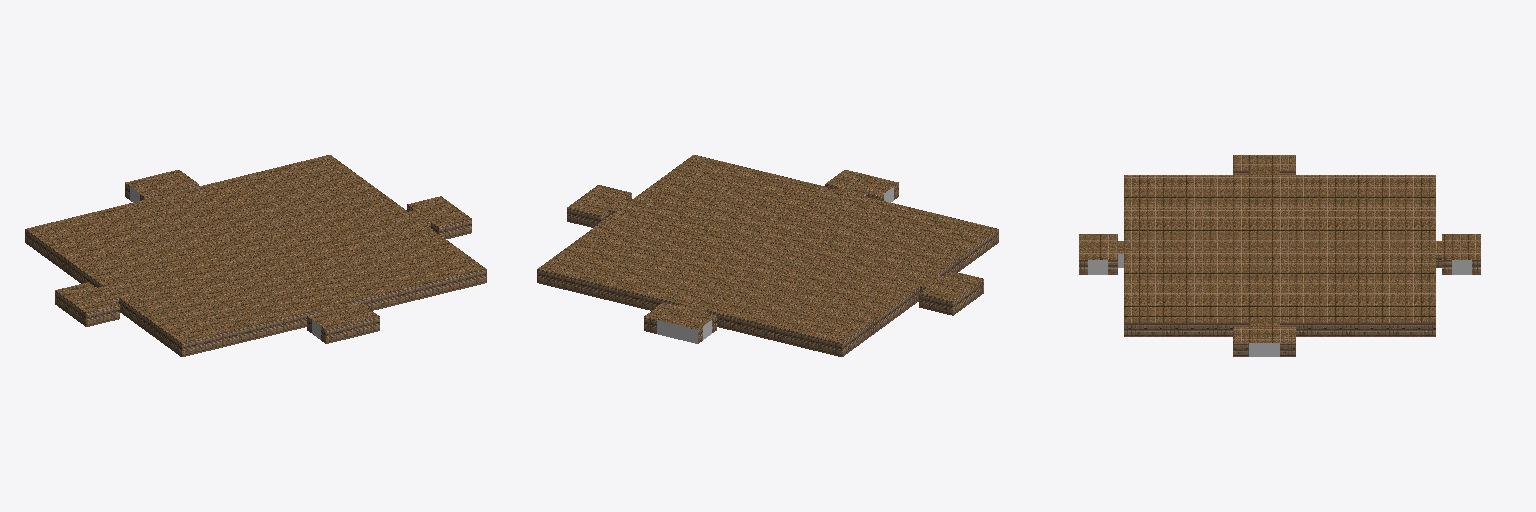
3 renders of one model, left to right at view 1: azimuth 30°, elevation 25°; view 2: azimuth 150°, elevation 25°; view 3: azimuth 270°, elevation 25°, orthographic.
Visible parts, largest first — view 1: ARENA; view 2: ARENA; view 3: ARENA.
Boxes of the visible parts, <box> form: ARENA: <box>25,155,486,356</box>; ARENA: <box>537,155,998,356</box>; ARENA: <box>1079,155,1480,356</box>.
Bounding box in the file's own units: 3648 × 128 × 3296.
4 materials, 3 textured.